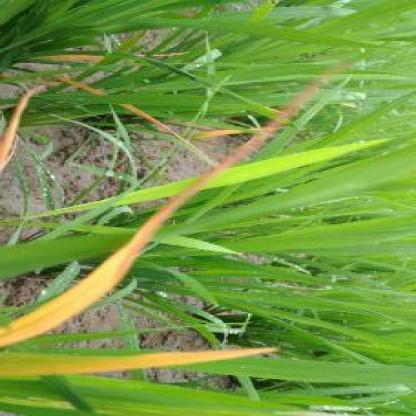Tungro: (1, 187, 196, 349), (1, 347, 280, 377)
